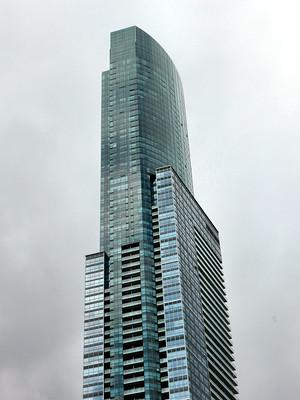building: (80, 17, 242, 400)
